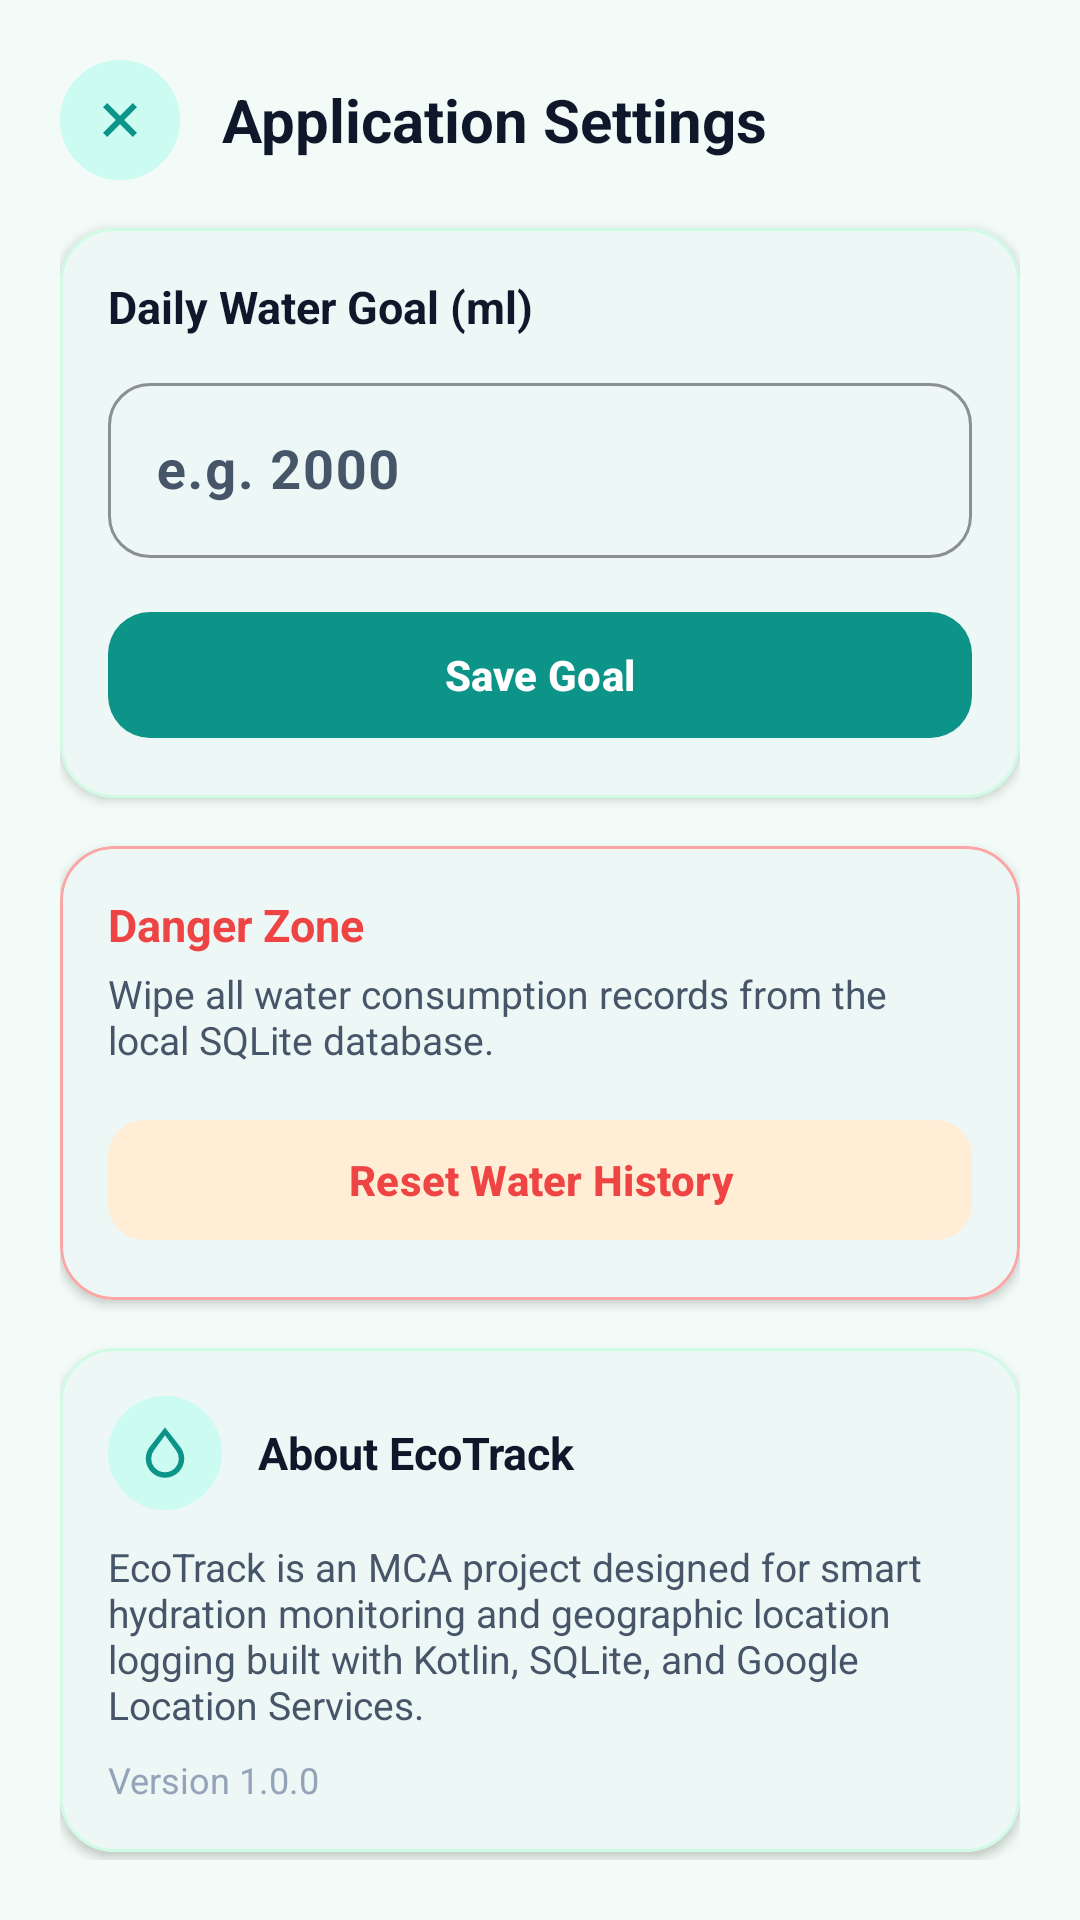

Where icons sit on this 1080px×1920px app screen, as [x1,y1,x2,y2]:
water drop: [145,1427,185,1478]
